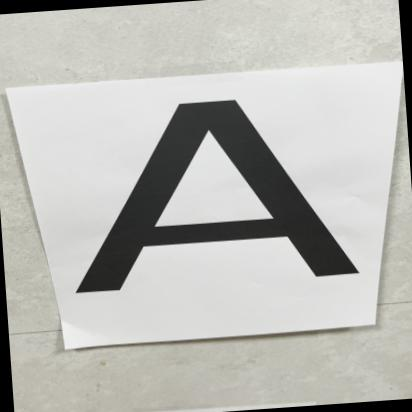seat: (55, 77, 410, 314)
